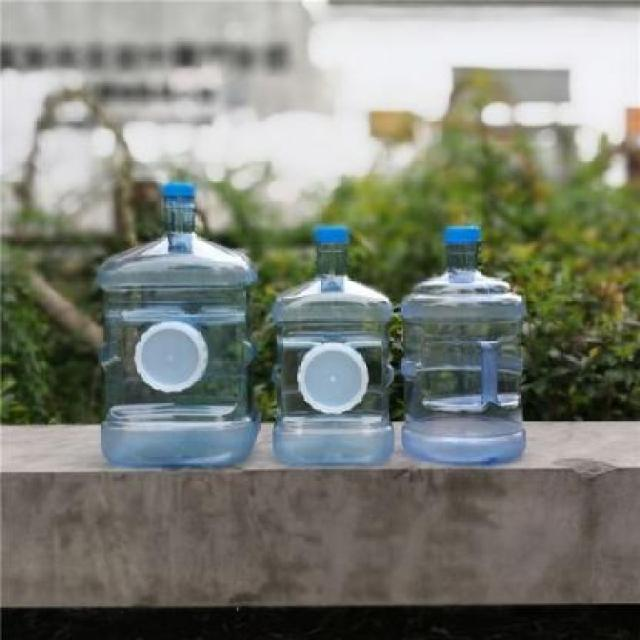coolerbottle: (92, 178, 262, 474), (268, 218, 400, 470), (398, 220, 531, 465)
